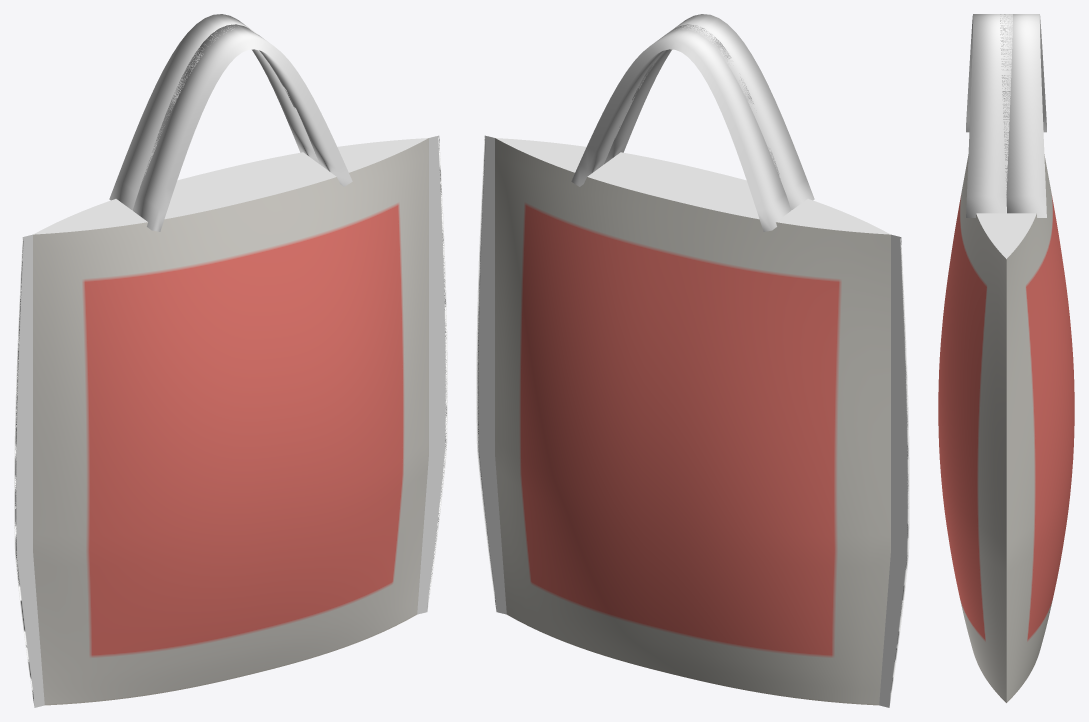
The model's file is classic-tote.glb.
The picture shows the model from 3 angles, left to right: view 1: azimuth 30°, elevation 25°; view 2: azimuth 150°, elevation 25°; view 3: azimuth 270°, elevation 25°; orthographic projection. The views are drawn at different scales.
Visible parts, largest first — view 1: TShirt_front, TShirt_strap_front, TShirt_rim, TShirt_gusset_r, TShirt_gusset_l, TShirt_strap_back; view 2: TShirt_back, TShirt_strap_back, TShirt_rim, TShirt_gusset_r, TShirt_gusset_l, TShirt_strap_front; view 3: TShirt_front, TShirt_back, TShirt_strap_front, TShirt_strap_back, TShirt_rim.
Boxes of the visible parts, <box> form: TShirt_front: <box>33,138,428,705</box>; TShirt_strap_front: <box>132,24,352,231</box>; TShirt_rim: <box>33,138,428,234</box>; TShirt_gusset_r: <box>417,135,447,614</box>; TShirt_gusset_l: <box>14,234,44,707</box>; TShirt_strap_back: <box>109,14,319,209</box>; TShirt_back: <box>495,138,890,705</box>; TShirt_strap_back: <box>571,24,791,231</box>; TShirt_rim: <box>495,138,890,234</box>; TShirt_gusset_r: <box>476,135,506,614</box>; TShirt_gusset_l: <box>879,234,909,707</box>; TShirt_strap_front: <box>604,14,814,209</box>; TShirt_front: <box>938,154,1006,702</box>; TShirt_back: <box>1006,154,1074,702</box>; TShirt_strap_front: <box>966,14,1012,217</box>; TShirt_strap_back: <box>1000,14,1046,217</box>; TShirt_rim: <box>976,198,1036,258</box>.
Bounding box in the file's own units: 0.383 × 0.534 × 0.11.
2 materials, 1 textured.
